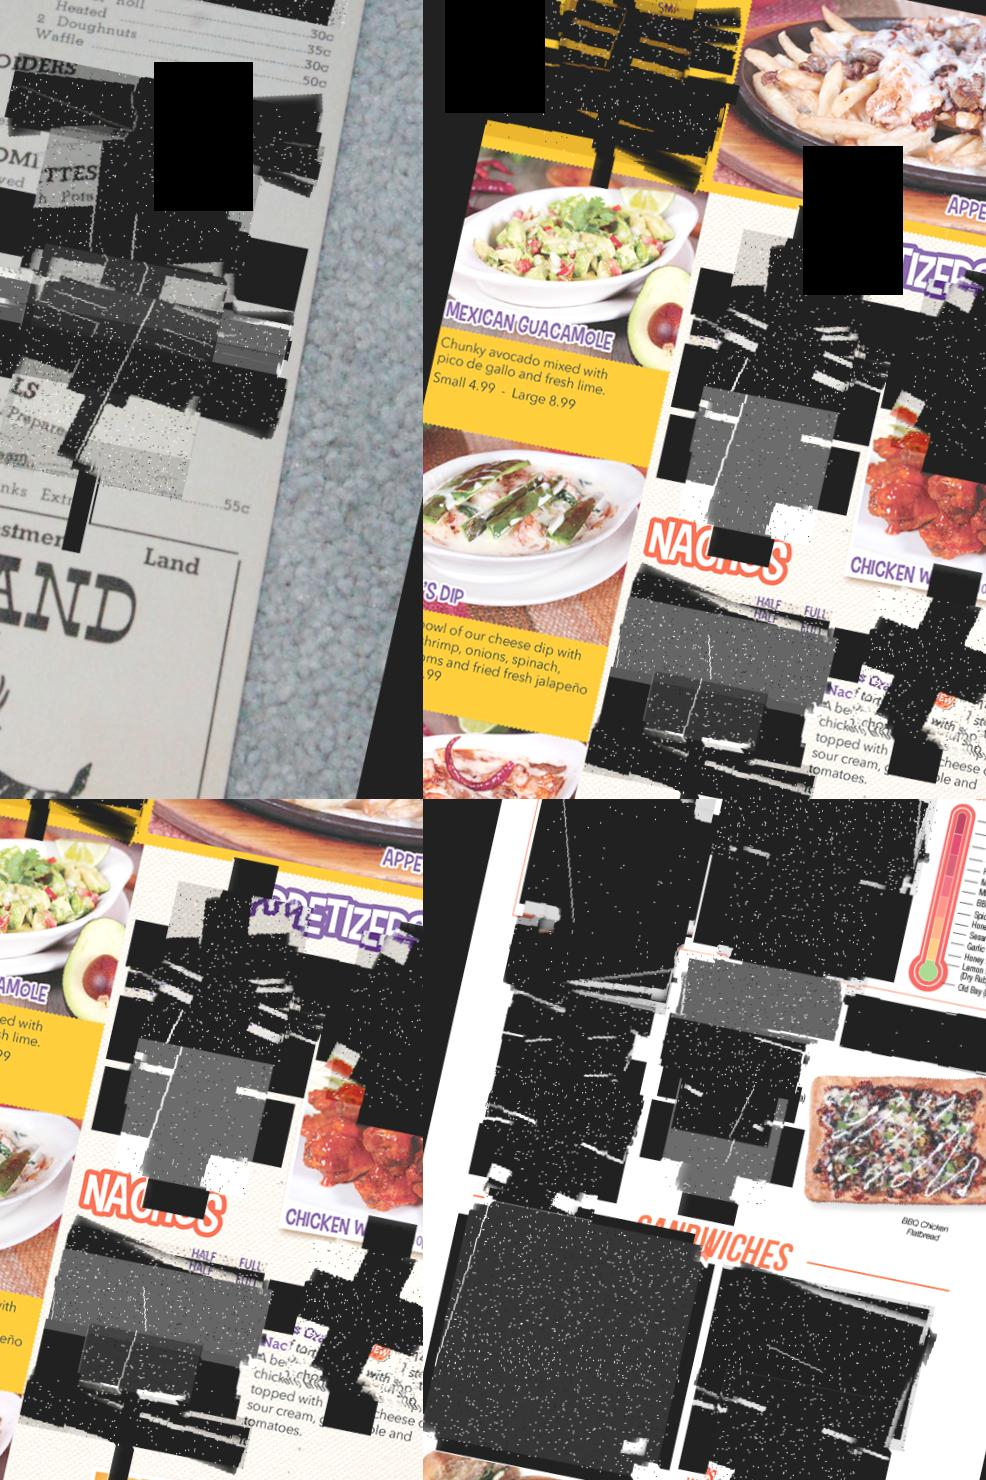Menu-Items: (423, 1195, 709, 1480), (3, 118, 269, 387), (0, 275, 222, 511), (6, 245, 229, 472), (689, 1261, 938, 1465), (3, 48, 326, 191), (0, 255, 293, 388), (0, 308, 286, 443), (8, 83, 324, 202), (710, 823, 897, 1012), (518, 799, 717, 962), (423, 555, 609, 728), (426, 289, 646, 434), (688, 308, 864, 486), (123, 960, 299, 1138), (610, 593, 841, 727), (45, 1245, 276, 1379), (712, 228, 883, 401), (147, 880, 317, 1053), (0, 289, 285, 392), (238, 1328, 423, 1479), (676, 385, 839, 551), (110, 1038, 273, 1203), (491, 42, 730, 149), (281, 1239, 423, 1417), (17, 1370, 253, 1477), (710, 799, 947, 905), (846, 586, 986, 765), (544, 0, 701, 153), (483, 88, 713, 188), (803, 676, 986, 799), (489, 69, 720, 160), (324, 930, 423, 1140), (601, 664, 813, 760), (35, 1315, 248, 1412), (888, 278, 986, 487), (543, 0, 702, 128), (66, 1320, 206, 1463), (502, 913, 684, 1022), (695, 1370, 873, 1480), (624, 569, 832, 662), (59, 1220, 266, 1314), (581, 717, 818, 799), (629, 667, 770, 799), (672, 949, 846, 1055), (481, 1096, 615, 1232), (655, 1077, 788, 1213), (121, 961, 328, 1045), (687, 308, 892, 393), (507, 0, 743, 73), (481, 1063, 645, 1164), (658, 1004, 814, 1099), (510, 1006, 631, 1128), (669, 1033, 788, 1155), (839, 990, 986, 1087), (0, 941, 80, 1085), (501, 996, 642, 1070), (510, 973, 657, 1041), (0, 1207, 43, 1380), (0, 799, 147, 840)
